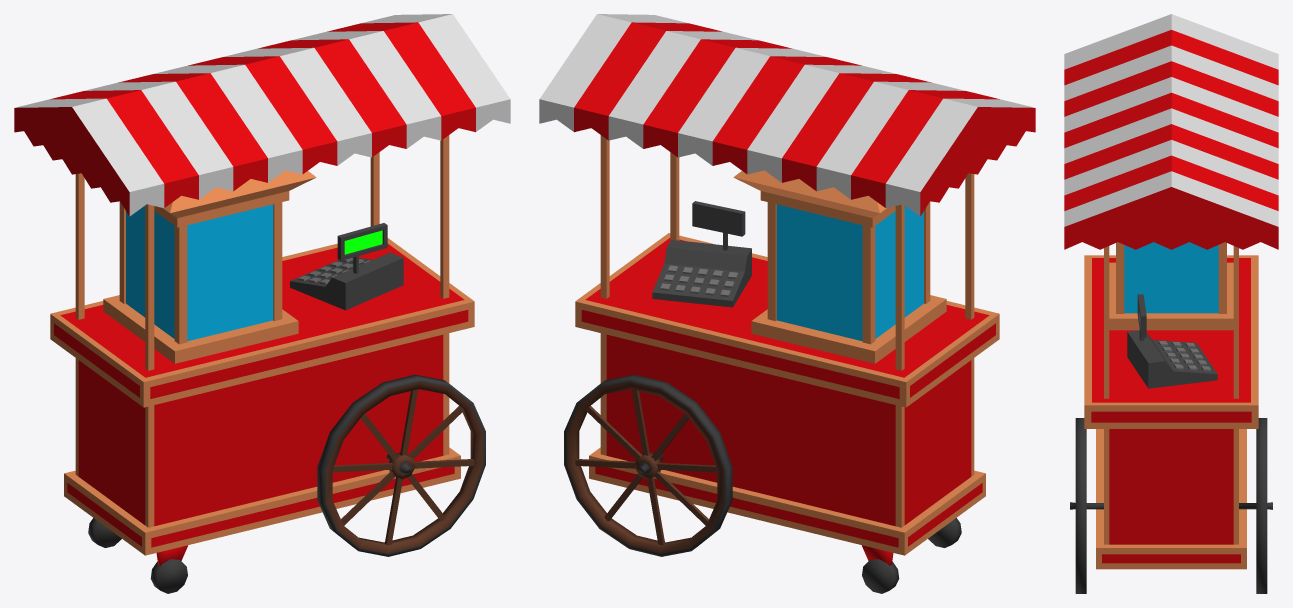
The model's file is popcorn_stand.fbx.
The picture shows the model from 3 angles, left to right: view 1: azimuth 30°, elevation 25°; view 2: azimuth 150°, elevation 25°; view 3: azimuth 270°, elevation 25°; orthographic projection. The views are drawn at different scales.
Visible parts, largest first — view 1: Cube; view 2: Cube; view 3: Cube.
Boxes of the visible parts, left/top/right/bottom form: Cube: left=14, top=14, right=510, bottom=593; Cube: left=539, top=14, right=1035, bottom=593; Cube: left=1064, top=14, right=1278, bottom=593.
Bounding box in the file's own units: 102 × 122 × 53.25.
